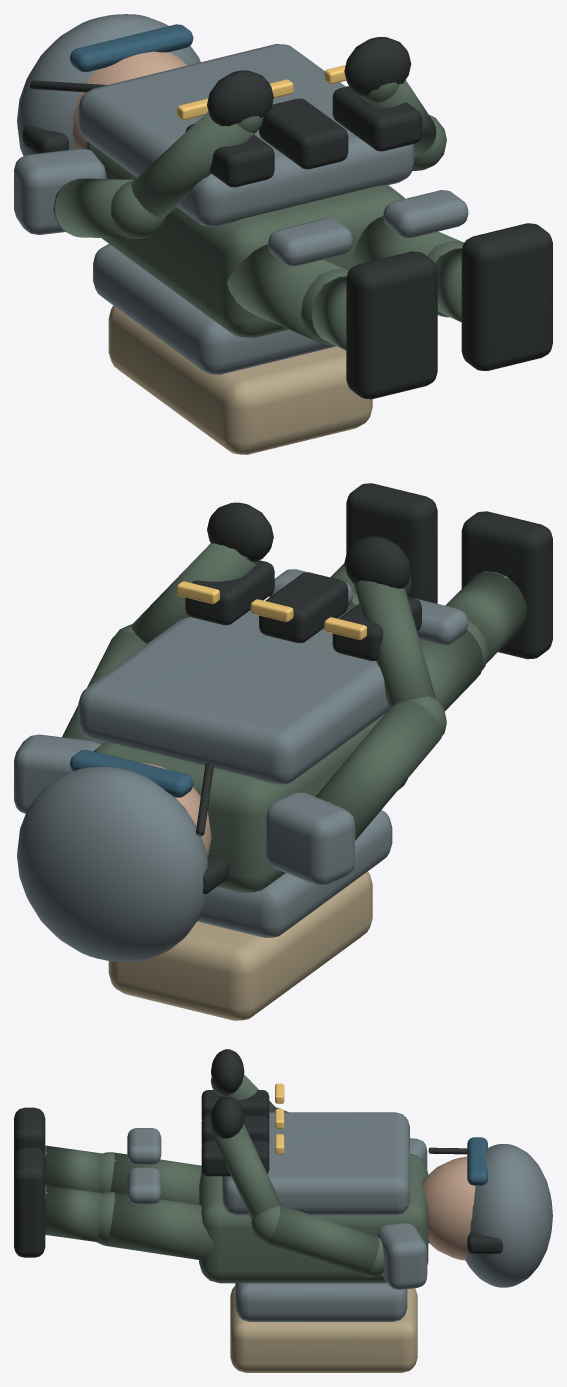
Rendered from character_player_final.glb.
3 views of the same model, one above another, from view 1: azimuth 30°, elevation 25°; view 2: azimuth 150°, elevation 25°; view 3: azimuth 270°, elevation 25° (orthographic). The views are drawn at different scales.
Visible parts, largest first — view 1: front_plate_carrier_with_beveled_ceramic_panel, hydration_backpack_and_radio_pack, anatomical_torso_underlayer, boot_with_sculpted_sole_-0.18, boot_with_sculpted_sole_0.18, rear_plate_carrier_panel, ballistic_helmet_shell, forearm_glove_sleeve_-0.39, upper_leg_fatigues_-0.18, shoulder_armor_pad_-0.39, front_magazine_pouch_0, front_magazine_pouch_0.23 (+17 smaller); view 2: front_plate_carrier_with_beveled_ceramic_panel, ballistic_helmet_shell, hydration_backpack_and_radio_pack, anatomical_torso_underlayer, boot_with_sculpted_sole_-0.18, upper_arm_cloth_-0.39, rear_plate_carrier_panel, shoulder_armor_pad_-0.39, boot_with_sculpted_sole_0.18, forearm_glove_sleeve_-0.39, front_magazine_pouch_0, lower_leg_boot_gaiter_-0.18 (+16 smaller); view 3: front_plate_carrier_with_beveled_ceramic_panel, hydration_backpack_and_radio_pack, anatomical_torso_underlayer, ballistic_helmet_shell, rear_plate_carrier_panel, upper_leg_fatigues_0.18, upper_arm_cloth_0.39, human_face_visible_under_helmet, boot_with_sculpted_sole_0.18, forearm_glove_sleeve_0.39, lower_leg_boot_gaiter_0.18, shoulder_armor_pad_0.39 (+16 smaller).
Boxes of the visible parts, x1,y1,x2,y2 form: front_plate_carrier_with_beveled_ceramic_panel: (78, 44, 414, 227); hydration_backpack_and_radio_pack: (108, 305, 372, 454); anatomical_torso_underlayer: (85, 141, 404, 337); boot_with_sculpted_sole_-0.18: (346, 251, 437, 399); boot_with_sculpted_sole_0.18: (461, 223, 552, 370); rear_plate_carrier_panel: (93, 244, 335, 374); ballistic_helmet_shell: (17, 14, 200, 156); forearm_glove_sleeve_-0.39: (131, 111, 256, 218); upper_leg_fatigues_-0.18: (227, 244, 348, 343); shoulder_armor_pad_-0.39: (14, 148, 106, 234); front_magazine_pouch_0: (259, 98, 348, 169); front_magazine_pouch_0.23: (332, 86, 421, 151); front_plate_carrier_with_beveled_ceramic_panel: (78, 610, 388, 784); ballistic_helmet_shell: (17, 766, 207, 962); hydration_backpack_and_radio_pack: (108, 871, 372, 1020); anatomical_torso_underlayer: (93, 713, 407, 892); boot_with_sculpted_sole_-0.18: (461, 511, 552, 659); upper_arm_cloth_-0.39: (315, 700, 441, 840); rear_plate_carrier_panel: (197, 810, 392, 937); shoulder_armor_pad_-0.39: (266, 792, 354, 885); boot_with_sculpted_sole_0.18: (346, 483, 437, 603); forearm_glove_sleeve_-0.39: (354, 580, 435, 708); front_magazine_pouch_0: (259, 572, 348, 643); lower_leg_boot_gaiter_-0.18: (445, 571, 526, 663); front_plate_carrier_with_beveled_ceramic_panel: (222, 1112, 409, 1215); hydration_backpack_and_radio_pack: (230, 1286, 417, 1372); anatomical_torso_underlayer: (199, 1154, 428, 1283); ballistic_helmet_shell: (465, 1144, 552, 1287); rear_plate_carrier_panel: (235, 1283, 407, 1321); upper_leg_fatigues_0.18: (106, 1192, 214, 1260); upper_arm_cloth_0.39: (265, 1205, 379, 1275); human_face_visible_under_helmet: (422, 1156, 475, 1260); boot_with_sculpted_sole_0.18: (14, 1147, 45, 1257); forearm_glove_sleeve_0.39: (212, 1123, 281, 1219); lower_leg_boot_gaiter_0.18: (44, 1185, 103, 1241); shoulder_armor_pad_0.39: (377, 1223, 427, 1289).
Bounding box in the file's own units: 1.03 × 1.17 × 2.07.
